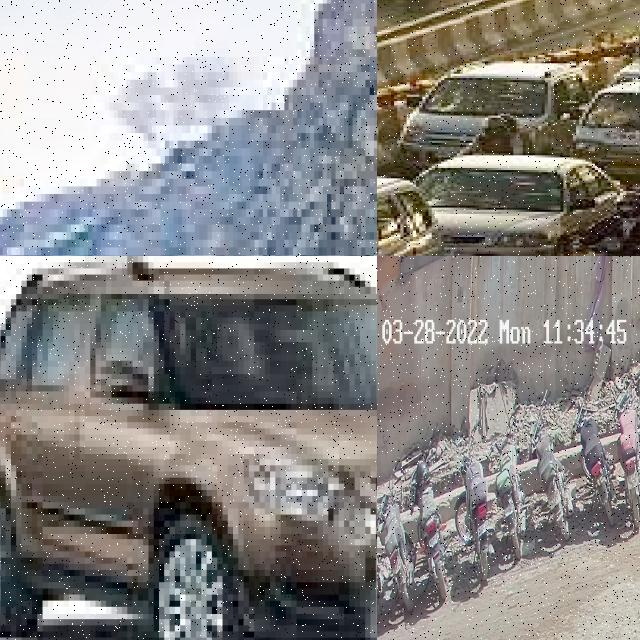bike: (529, 388, 573, 540), (454, 416, 494, 580), (575, 375, 617, 526), (410, 439, 448, 600), (377, 457, 416, 610), (487, 406, 526, 558), (614, 369, 640, 528)
car: (0, 256, 377, 640)
